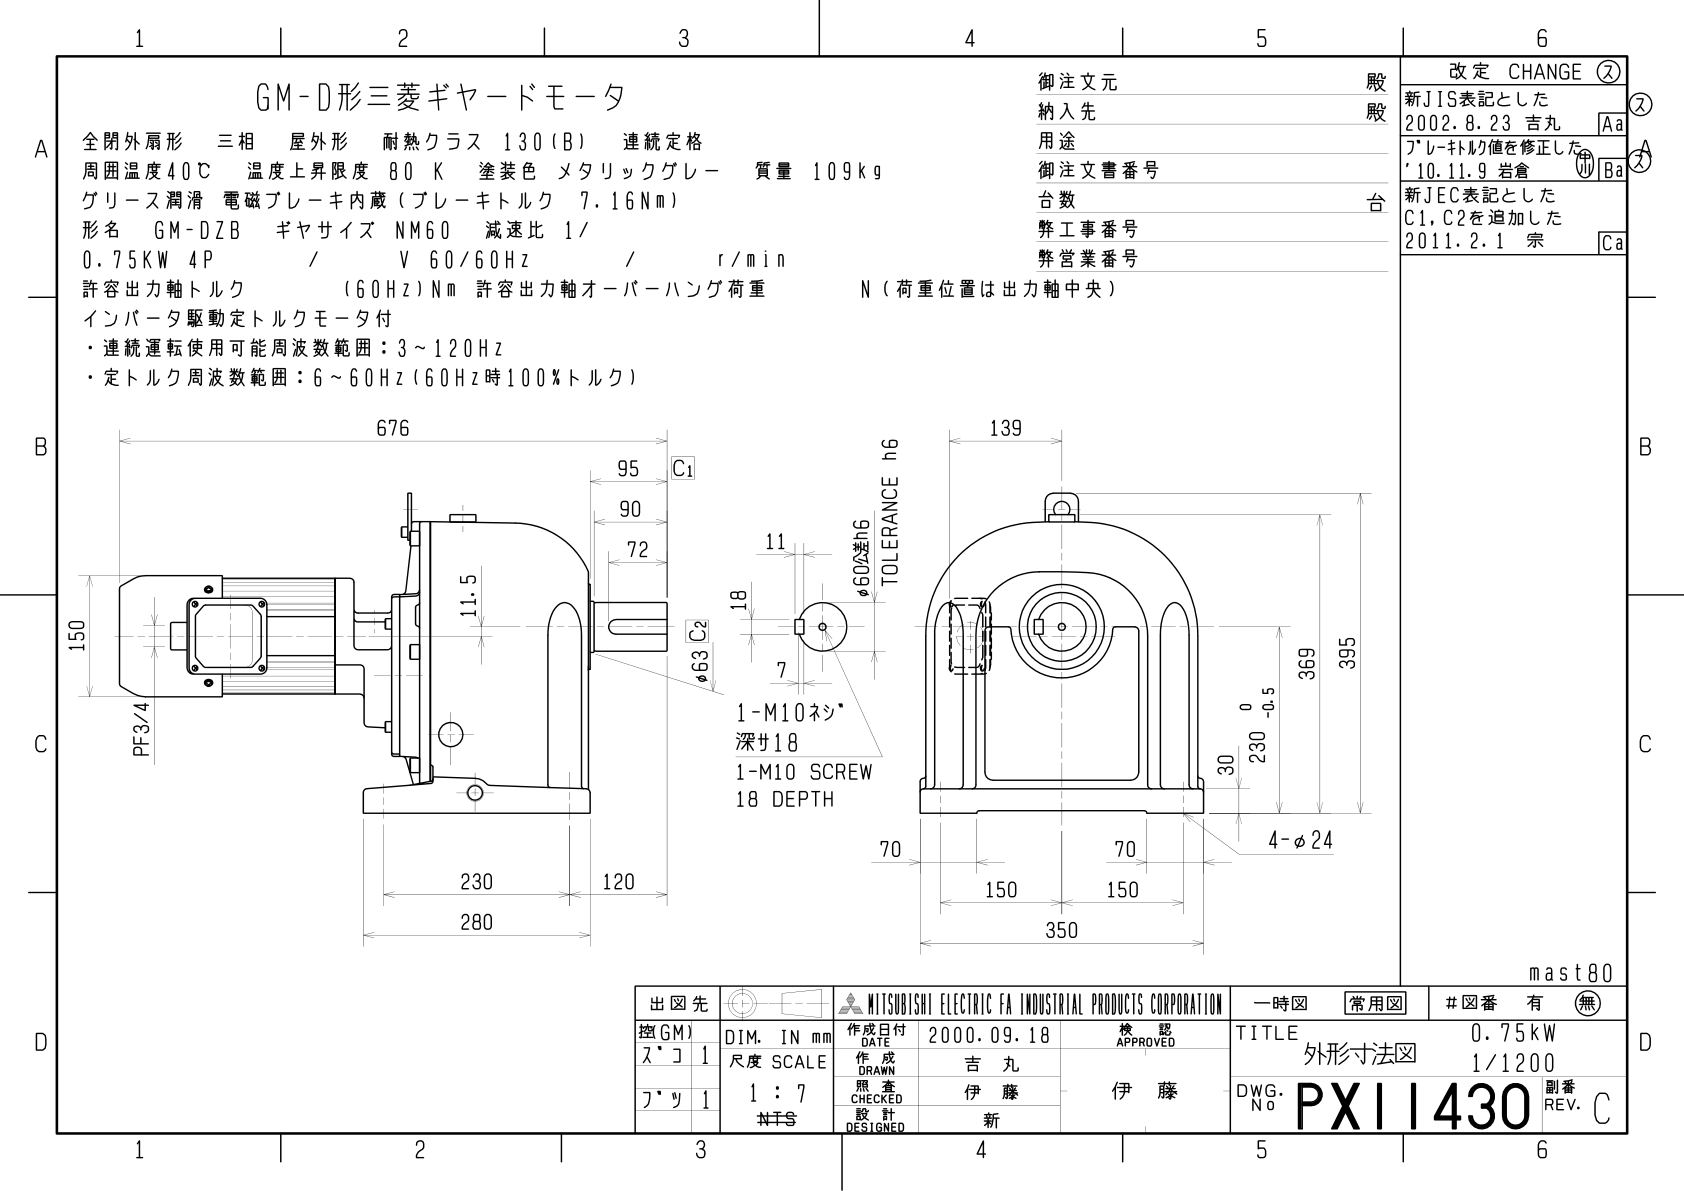GM_D_インバータ屋外_三相_脚: (8, 9, 1678, 1181)
